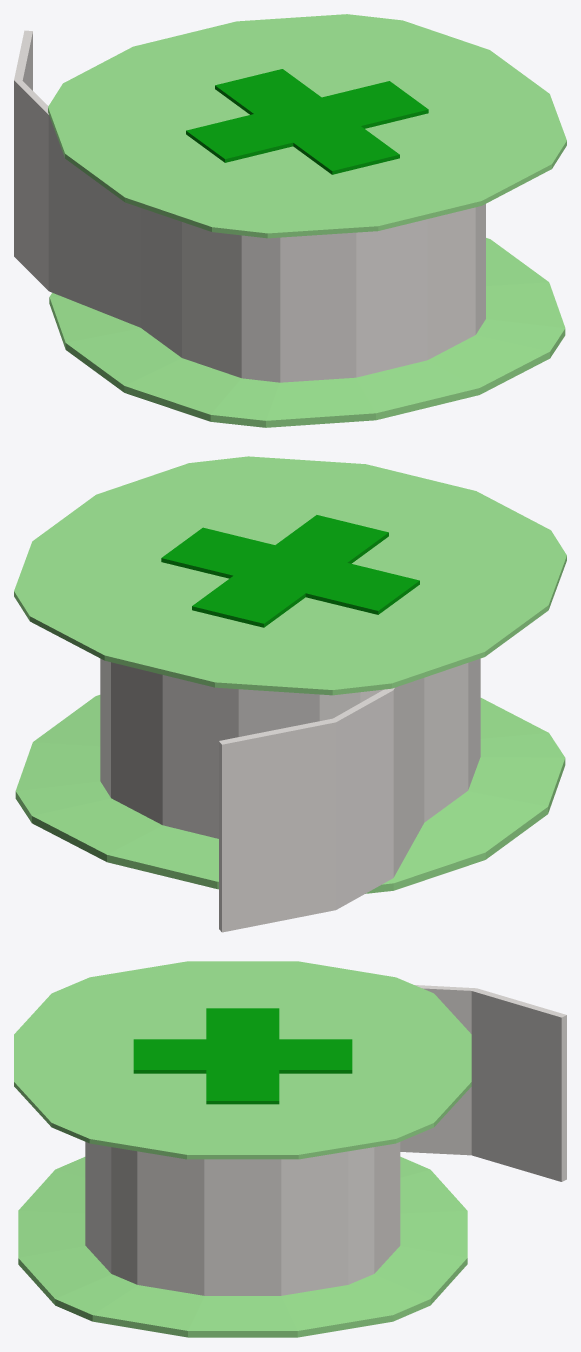
The model's file is Катушка с пластырем (многоразовая).fbx.
The picture shows the model from 3 angles, top to bottom: view 1: azimuth 30°, elevation 25°; view 2: azimuth 150°, elevation 25°; view 3: azimuth 270°, elevation 25°; orthographic projection. The views are drawn at different scales.
Parts seen in each view (by area): view 1: Cube, Cube.002, Cube.001; view 2: Cube, Cube.002, Cube.001; view 3: Cube, Cube.002, Cube.001.
Boxes of the visible parts, <box> form: Cube: <box>48,14,566,427</box>; Cube.002: <box>14,30,485,382</box>; Cube.001: <box>186,69,428,174</box>; Cube: <box>14,456,566,893</box>; Cube.002: <box>100,658,480,932</box>; Cube.001: <box>161,515,419,627</box>; Cube: <box>14,961,471,1337</box>; Cube.002: <box>85,985,566,1295</box>; Cube.001: <box>133,1008,352,1104</box>.
Bounding box in the file's own units: 113 × 50.69 × 136.
